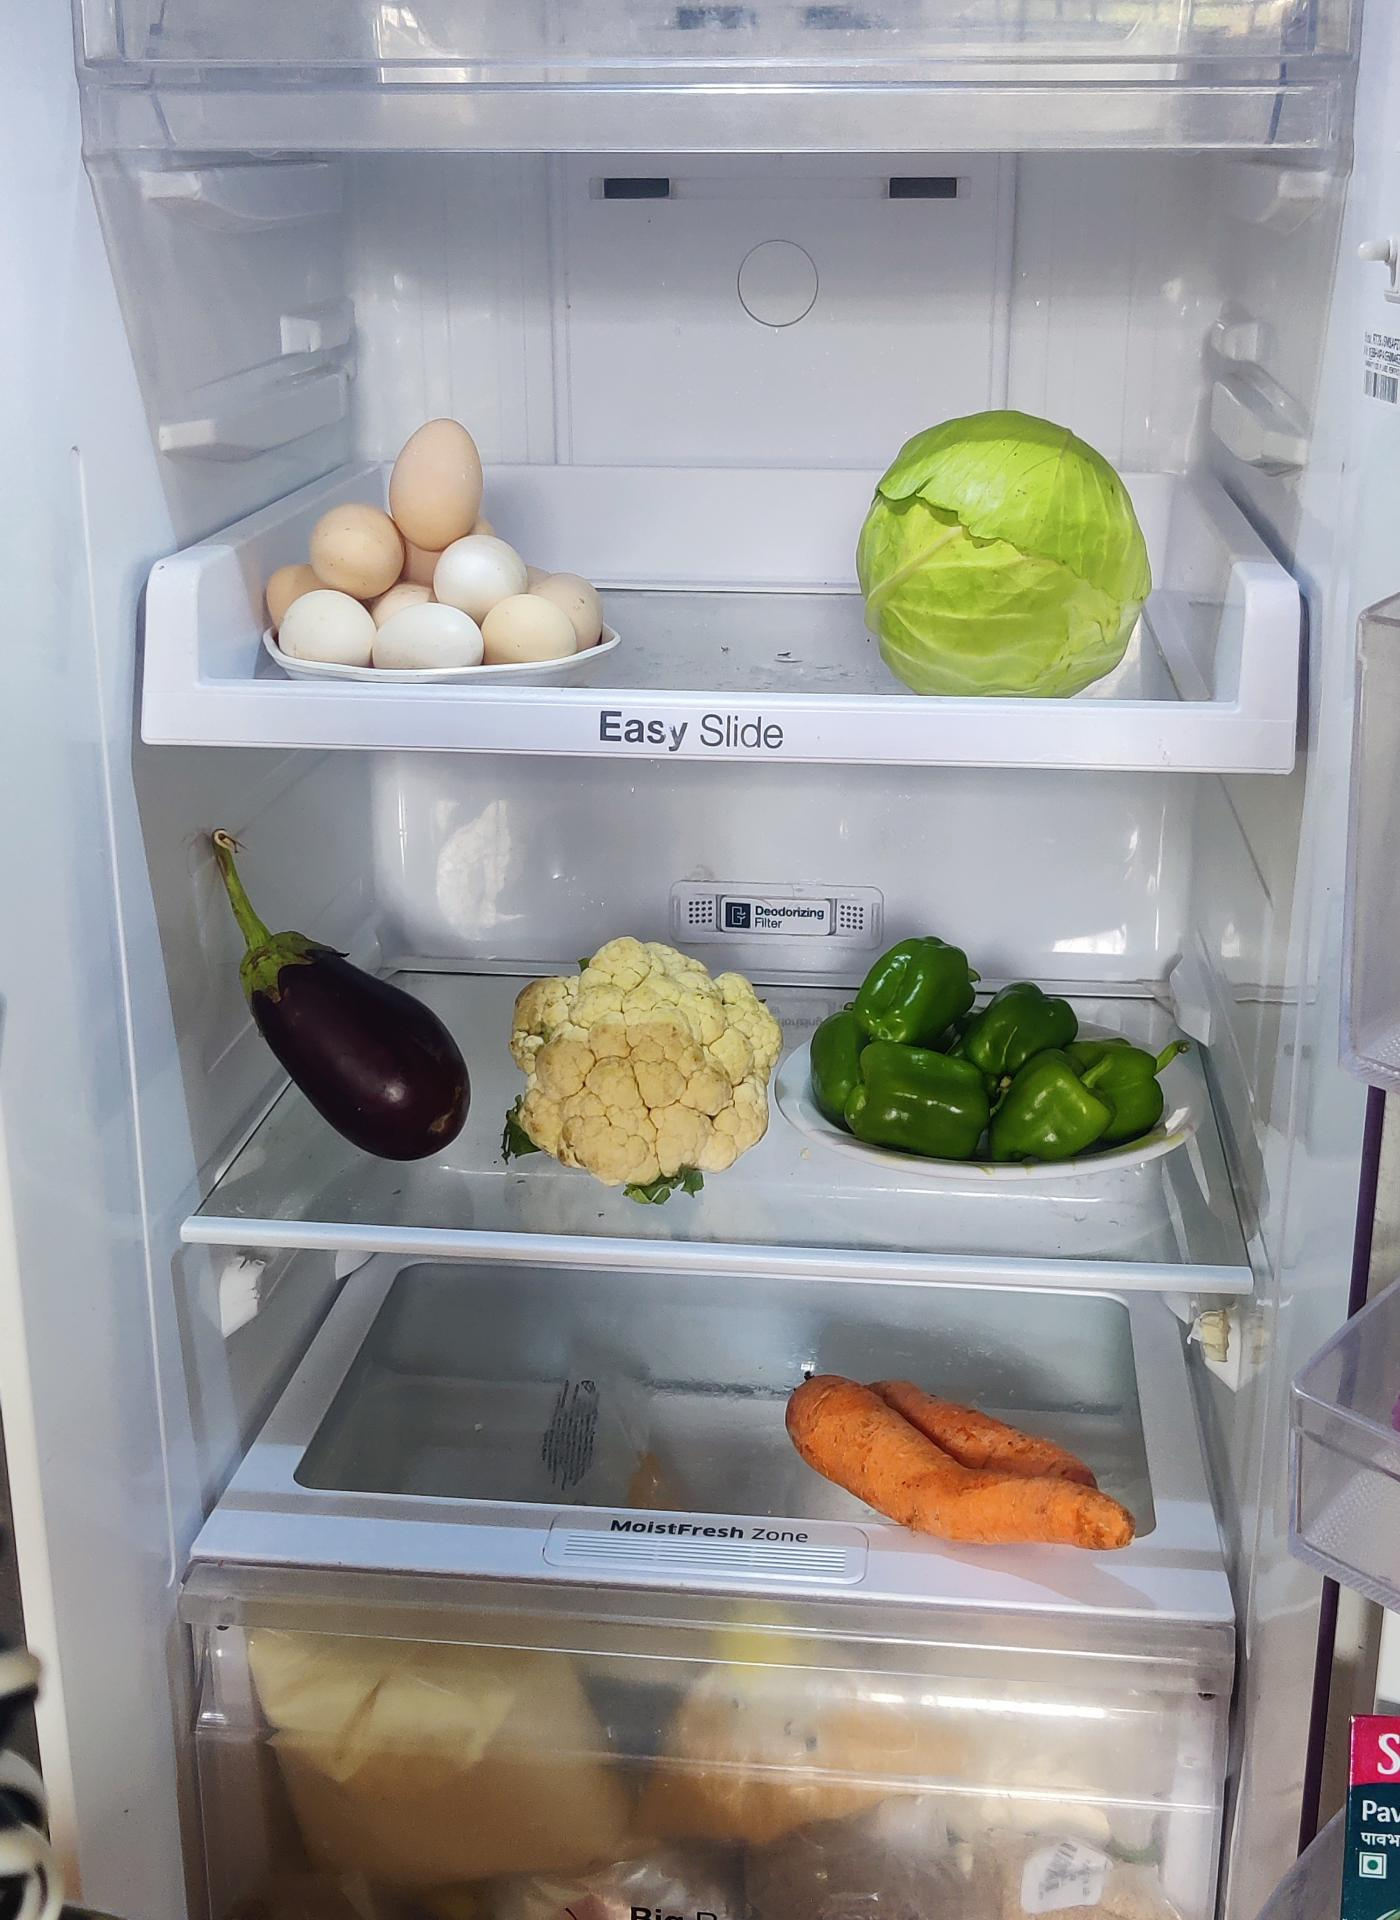brinjal: (216, 875, 464, 1164)
cabbage: (856, 411, 1150, 701)
capsicum: (807, 930, 1182, 1160)
carrots: (783, 1371, 1142, 1556)
cauliflower: (513, 938, 781, 1185)
egg: (252, 413, 595, 660)
